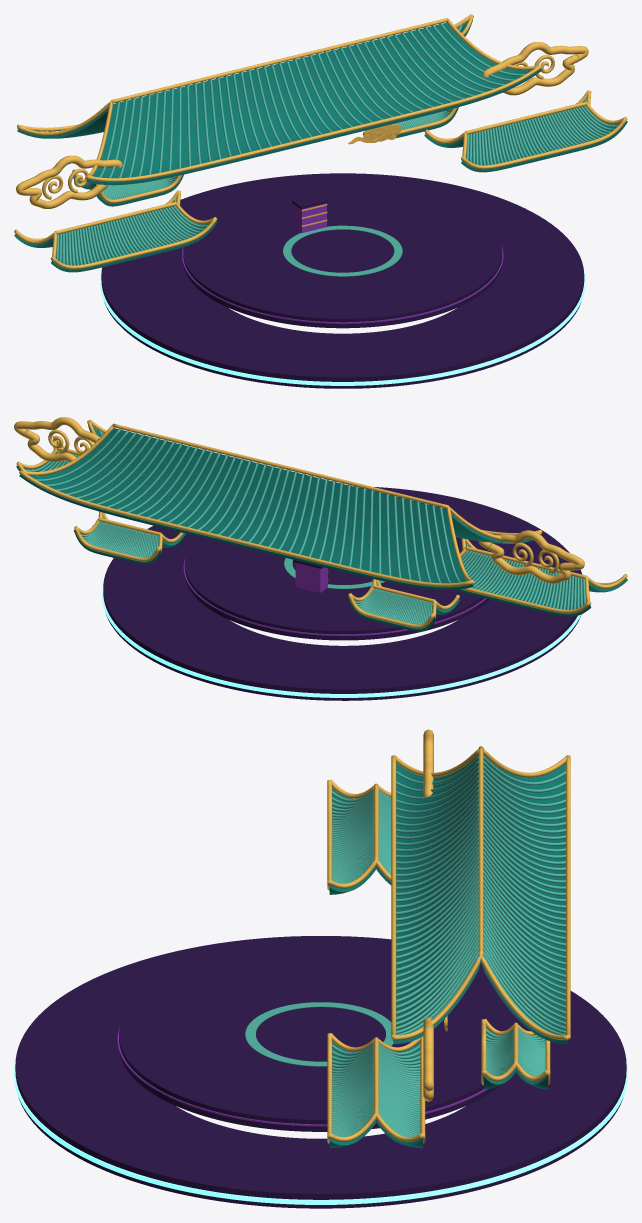
The model's file is roof-r06-experiment.glb.
The picture shows the model from 3 angles, top to bottom: view 1: azimuth 30°, elevation 25°; view 2: azimuth 150°, elevation 25°; view 3: azimuth 270°, elevation 25°; orthographic projection. The views are drawn at different scales.
Parts seen in each view (by area): view 1: STAGE_OUTER finite annulus hidden rear inferred, STAGE_INNER annulus, ROOF_MAIN closed shell, STAGE_INNER central disk, ROOF_LEFT closed shell, ROOF_RIGHT closed shell, STAGE_OUTER LED front full circumference inferred, ROOF_MAIN gold front eave, CLOUD_0 silhouette decorative proxy, CLOUD_1 silhouette decorative proxy, ROOF_MAIN gold ridge, STAGE_INNER silver band (+9 smaller); view 2: STAGE_OUTER finite annulus hidden rear inferred, ROOF_MAIN closed shell, STAGE_INNER annulus, STAGE_OUTER LED front full circumference inferred, ROOF_MAIN gold back eave inferred, ROOF_LEFT closed shell, CLOUD_0 silhouette decorative proxy, ROOF_MAIN gold ridge, CLOUD_1 silhouette decorative proxy, DJ11 body inferred depth, STAGE_INNER thin edge, ROOF_MAIN swept gable (+7 smaller); view 3: STAGE_OUTER finite annulus hidden rear inferred, STAGE_INNER annulus, ROOF_MAIN closed shell, STAGE_INNER central disk, STAGE_OUTER LED front full circumference inferred, STAGE_INNER silver band, ROOF_MAIN gold front eave, ROOF_MAIN gold back eave inferred, ROOF_MAIN swept gable.001, ROOF_MAIN gold ridge, ROOF_MAIN swept gable, CLOUD_1 silhouette decorative proxy (+43 smaller).
Boxes of the visible parts, x1,y1,x2,y2 form: STAGE_OUTER finite annulus hidden rear inferred: (101,173,584,388); STAGE_INNER annulus: (183,184,502,328); ROOF_MAIN closed shell: (17,20,541,185); STAGE_INNER central disk: (291,229,394,272); ROOF_LEFT closed shell: (14,202,217,272); ROOF_RIGHT closed shell: (424,99,627,172); STAGE_OUTER LED front full circumference inferred: (100,268,585,385); ROOF_MAIN gold front eave: (86,65,541,181); CLOUD_0 silhouette decorative proxy: (16,155,122,208); CLOUD_1 silhouette decorative proxy: (482,42,588,95); ROOF_MAIN gold ridge: (111,18,448,103); STAGE_INNER silver band: (283,225,402,276); STAGE_OUTER finite annulus hidden rear inferred: (103,486,582,700); ROOF_MAIN closed shell: (19,425,541,590); STAGE_INNER annulus: (184,522,495,640); STAGE_OUTER LED front full circumference inferred: (102,580,580,697); ROOF_MAIN gold back eave inferred: (19,470,473,586); ROOF_LEFT closed shell: (455,543,627,616); CLOUD_0 silhouette decorative proxy: (478,530,584,583); ROOF_MAIN gold ridge: (112,423,448,508); CLOUD_1 silhouette decorative proxy: (14,417,100,462); DJ11 body inferred depth: (295,563,327,592); STAGE_INNER thin edge: (183,558,486,635); ROOF_MAIN swept gable: (447,506,541,584); STAGE_OUTER finite annulus hidden rear inferred: (15,936,626,1208); STAGE_INNER annulus: (119,949,522,1131); ROOF_MAIN closed shell: (393,755,568,1043); STAGE_INNER central disk: (256,1007,385,1061); STAGE_OUTER LED front full circumference inferred: (14,1056,627,1204); STAGE_INNER silver band: (245,1002,393,1066); ROOF_MAIN gold front eave: (391,755,396,1039); ROOF_MAIN gold back eave inferred: (566,755,570,1039); ROOF_MAIN swept gable.001: (392,954,568,1039); ROOF_MAIN gold ridge: (478,746,483,956); ROOF_MAIN swept gable: (395,749,566,777); CLOUD_1 silhouette decorative proxy: (423,1017,433,1101).
Size of the model in its own units: 28.98 by 8.7 by 21.1.
